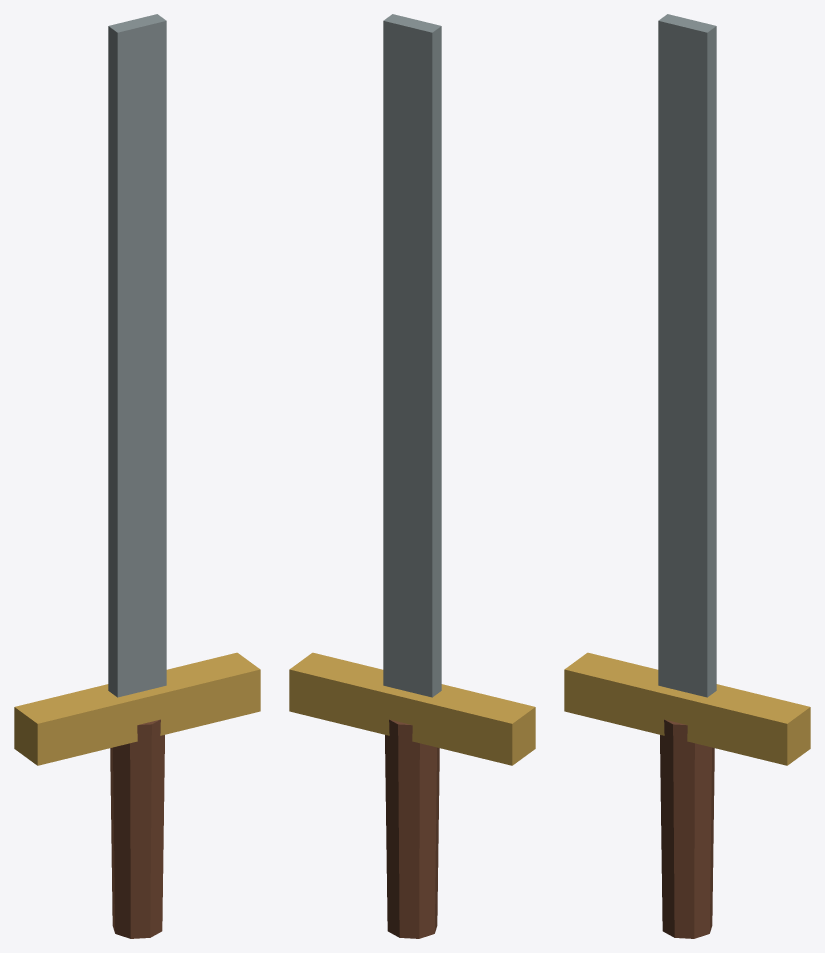
File: wk_prop_sword_v01.glb
3 renders of one model, left to right at view 1: azimuth 30°, elevation 25°; view 2: azimuth 150°, elevation 25°; view 3: azimuth 330°, elevation 25°, orthographic.
Parts seen in each view (by area): view 1: GEO_SwordBlade, GEO_SwordGuard, GEO_SwordGrip; view 2: GEO_SwordBlade, GEO_SwordGuard, GEO_SwordGrip; view 3: GEO_SwordBlade, GEO_SwordGuard, GEO_SwordGrip.
Boxes of the visible parts, x1,y1,x2,y2 form: GEO_SwordBlade: (108, 14, 166, 697); GEO_SwordGuard: (14, 652, 260, 765); GEO_SwordGrip: (110, 719, 164, 938); GEO_SwordBlade: (383, 14, 441, 697); GEO_SwordGuard: (289, 652, 535, 765); GEO_SwordGrip: (385, 719, 439, 938); GEO_SwordBlade: (658, 14, 716, 697); GEO_SwordGuard: (564, 652, 810, 765); GEO_SwordGrip: (660, 719, 714, 938).
Bounding box in the file's own units: 0.25 × 0.97 × 0.056.
